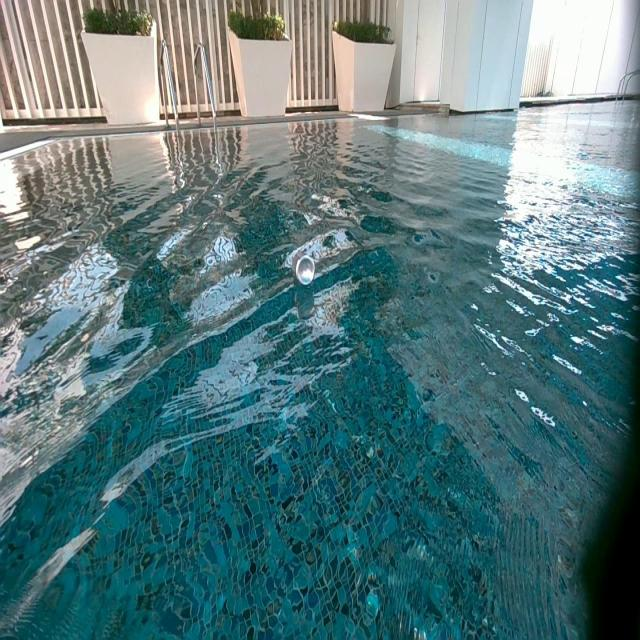Cans: (292, 252, 316, 286)
